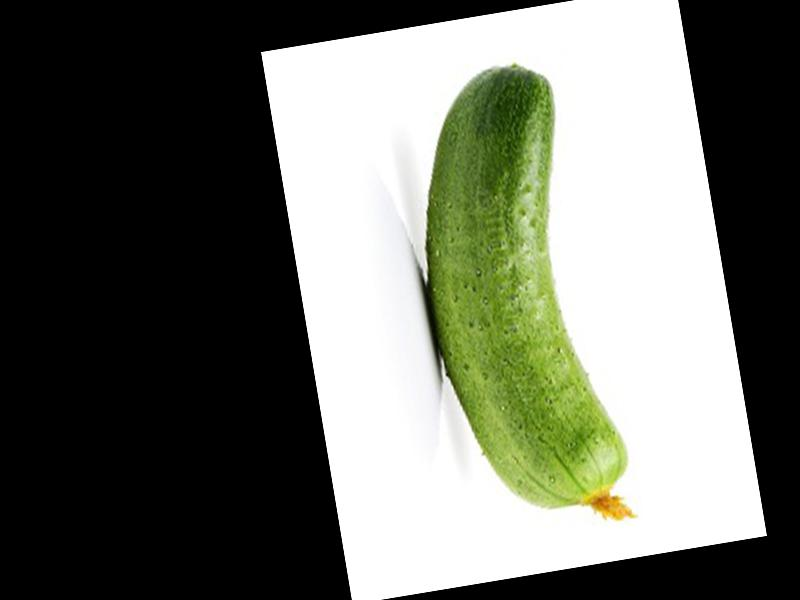Cucumber: (391, 54, 640, 549)
